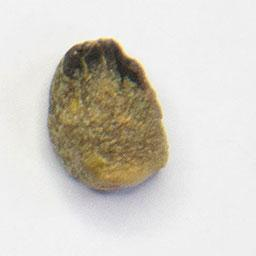defect: (45, 34, 173, 195)
